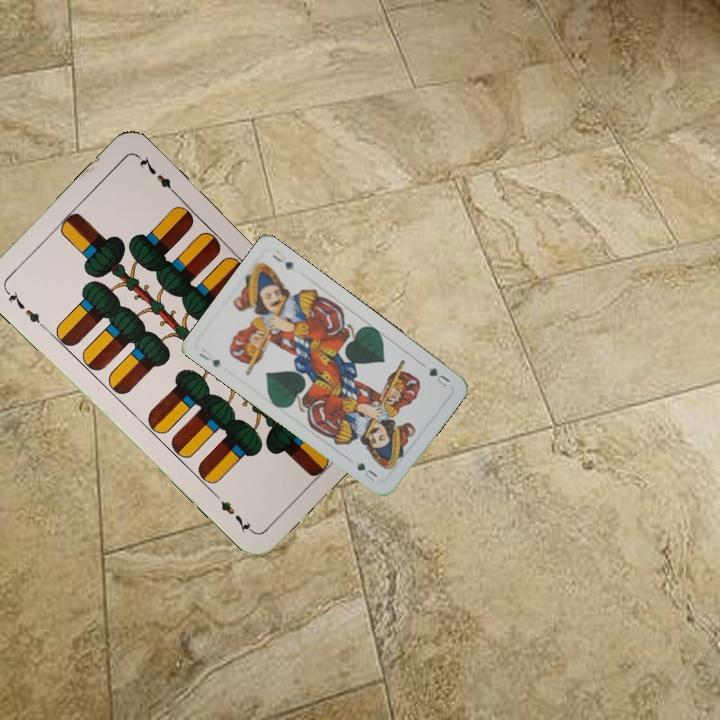E7: (1, 285, 47, 331)
GU: (424, 363, 453, 390), (194, 347, 223, 370)
